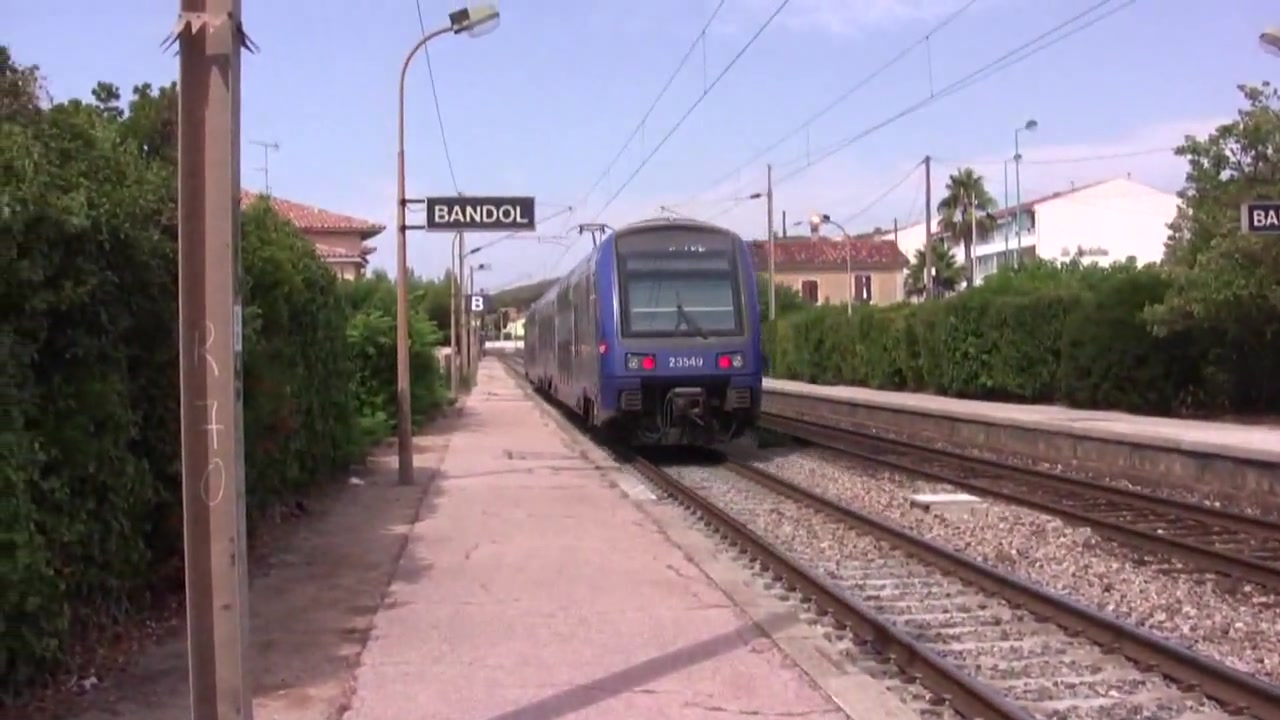train: (523, 221, 769, 440)
